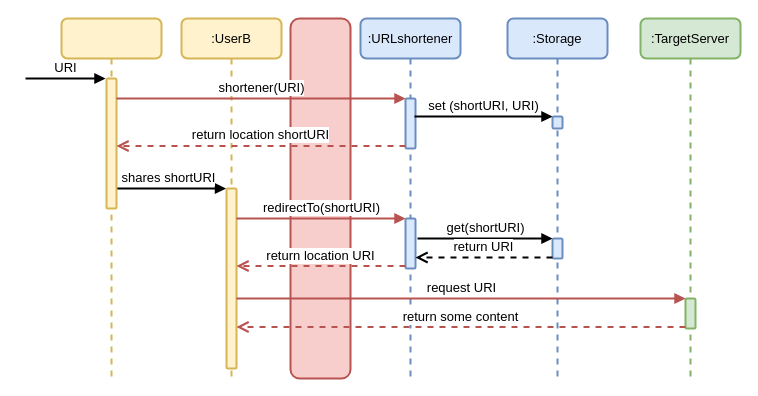
Some shapes in this 758 by 396 pixel diagram are drawn without their labels. Here are the shapes that lost their labels. From the top down, the centre of each, then its label:
At [111,198]: ":UserA".
At [320,198]: "HTTP protocol".
